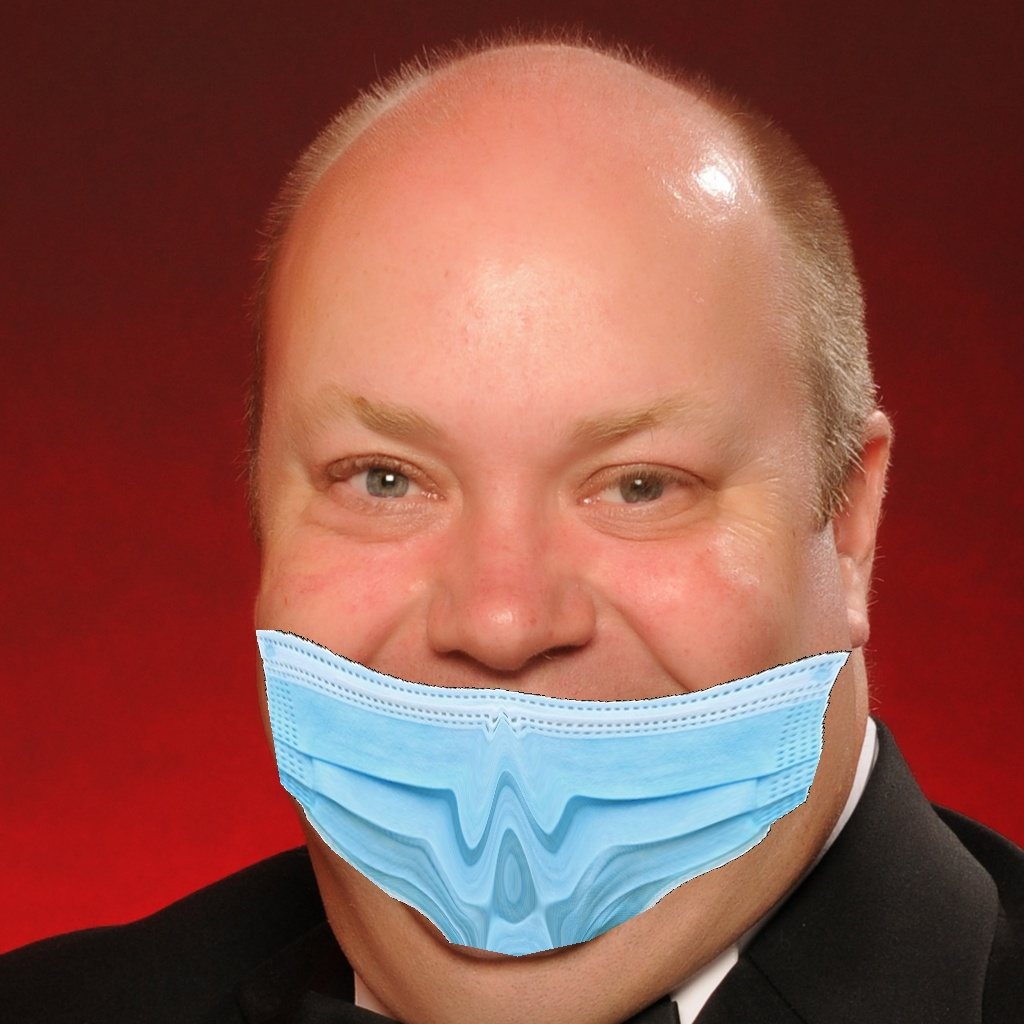mask_weared_incorrect: (237, 371, 878, 982)
